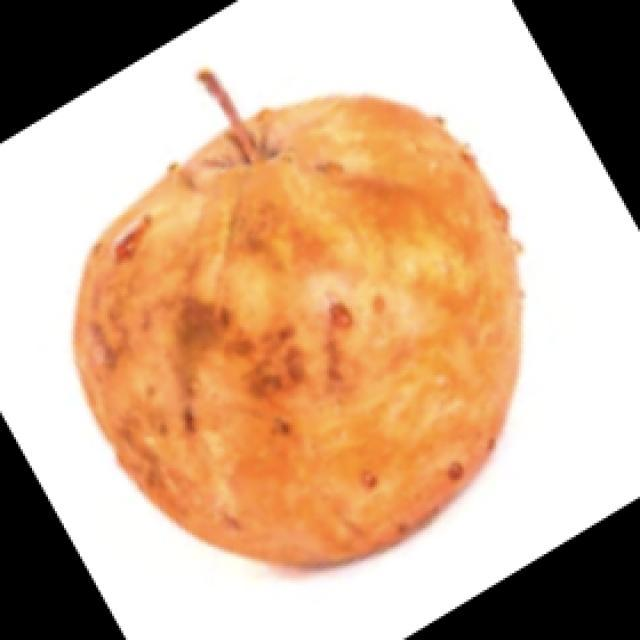Rotten: (102, 91, 513, 546)
